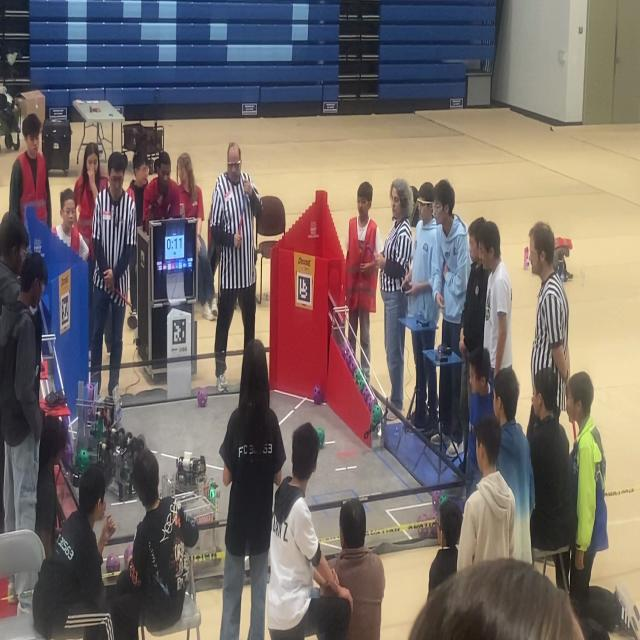artifact_green: (417, 514, 437, 539), (76, 448, 89, 473), (208, 480, 218, 503), (372, 404, 382, 426), (354, 368, 364, 388), (124, 545, 132, 568), (316, 428, 325, 448), (365, 423, 375, 438), (438, 494, 448, 508), (356, 378, 365, 392), (354, 368, 362, 378)
artifact_purple: (417, 513, 437, 538), (63, 436, 73, 467), (106, 553, 120, 573), (363, 387, 373, 412), (372, 402, 382, 426), (347, 352, 357, 374), (341, 341, 351, 361), (313, 385, 323, 404), (124, 545, 132, 568), (198, 387, 207, 407), (86, 383, 94, 401)
